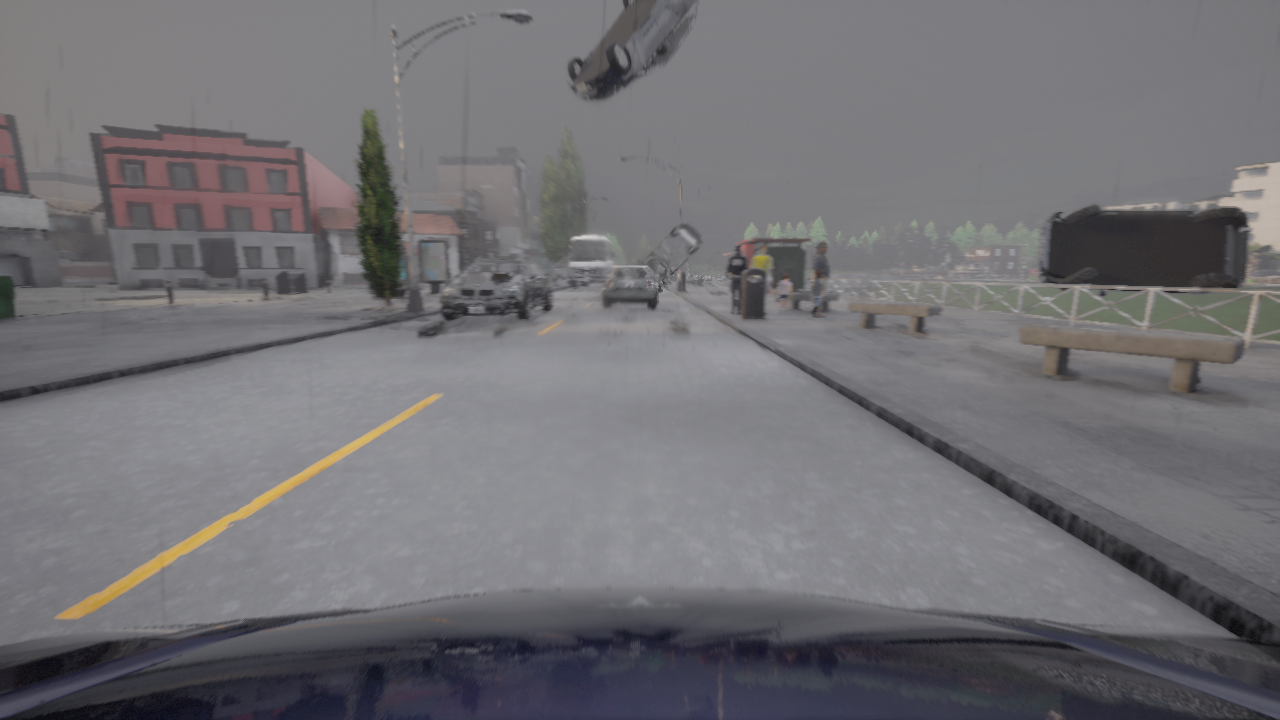cyclist: (0, 588, 1279, 719), (1038, 204, 1251, 296), (567, 0, 698, 102), (440, 258, 552, 320), (636, 222, 703, 291), (602, 266, 658, 308), (569, 241, 613, 274)
pedestrian: (723, 245, 748, 314), (811, 243, 829, 317), (748, 244, 772, 293), (756, 248, 770, 314), (811, 270, 821, 320), (778, 274, 790, 314)
